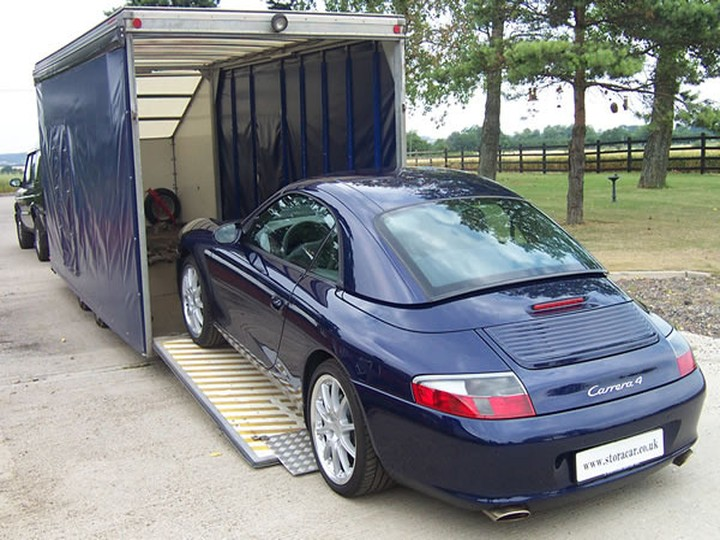car: (182, 177, 713, 522)
